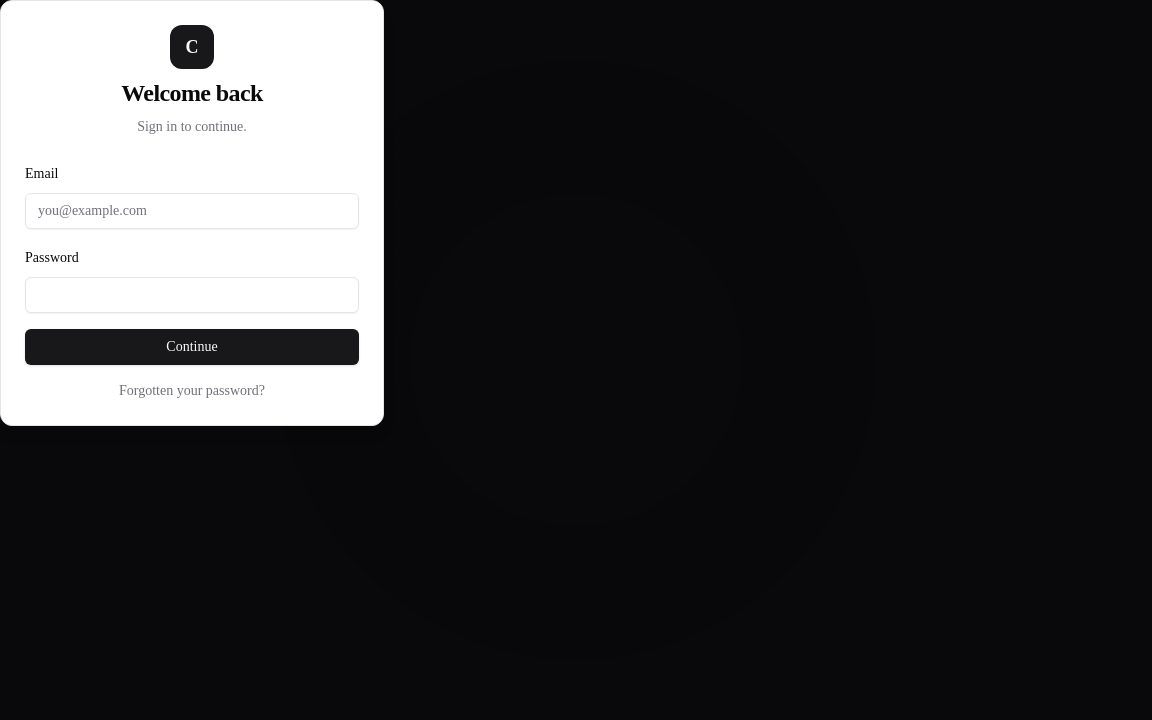
Test: sign-in — step 1, the credentials › ⚠️ a rejection never reveals whether the address exists (FR-011)
This screenshot has width=1152, height=720.
In the field labelled "Email": (192, 211) [25,193,359,229], type "agent@example.test"
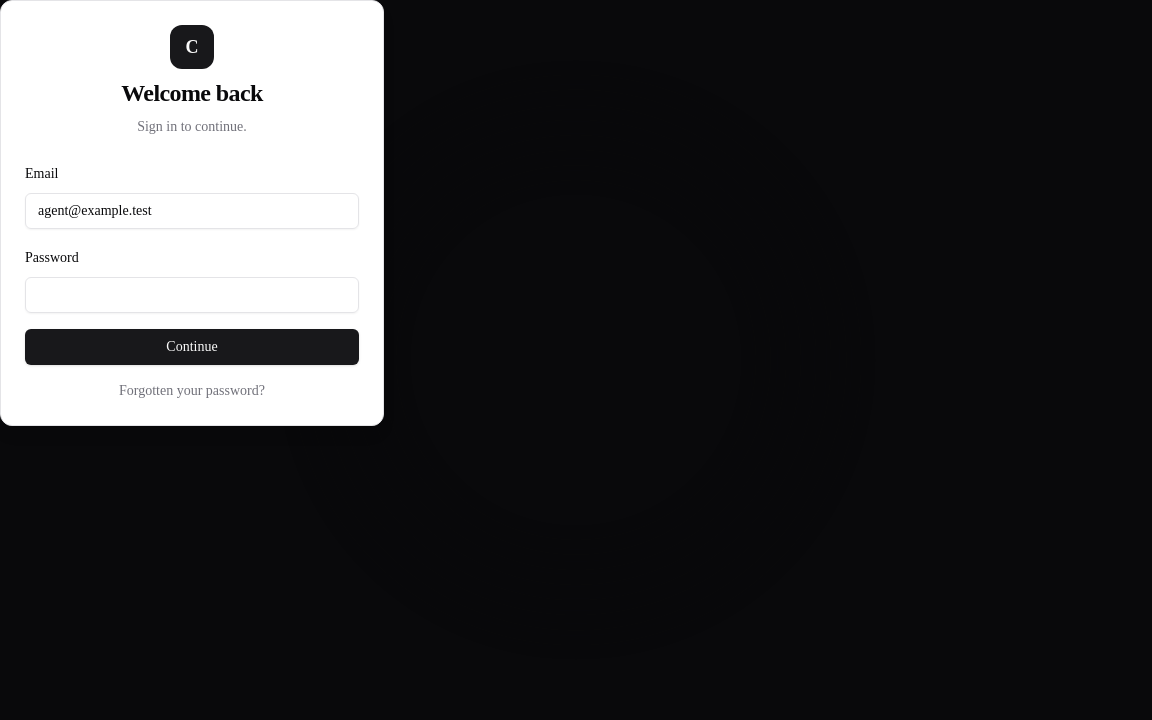
In the password field labelled "Password": (192, 295) [25,277,359,313], type "pw"
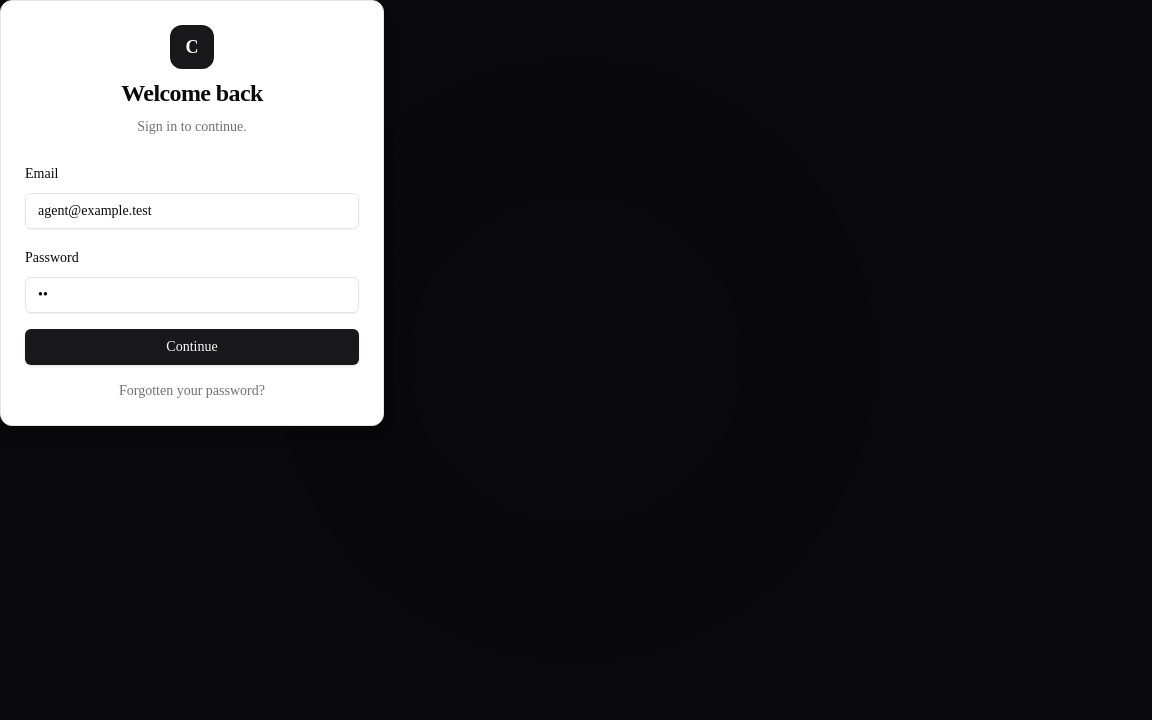
Click the button "Continue": (192, 347) [25,329,359,365]
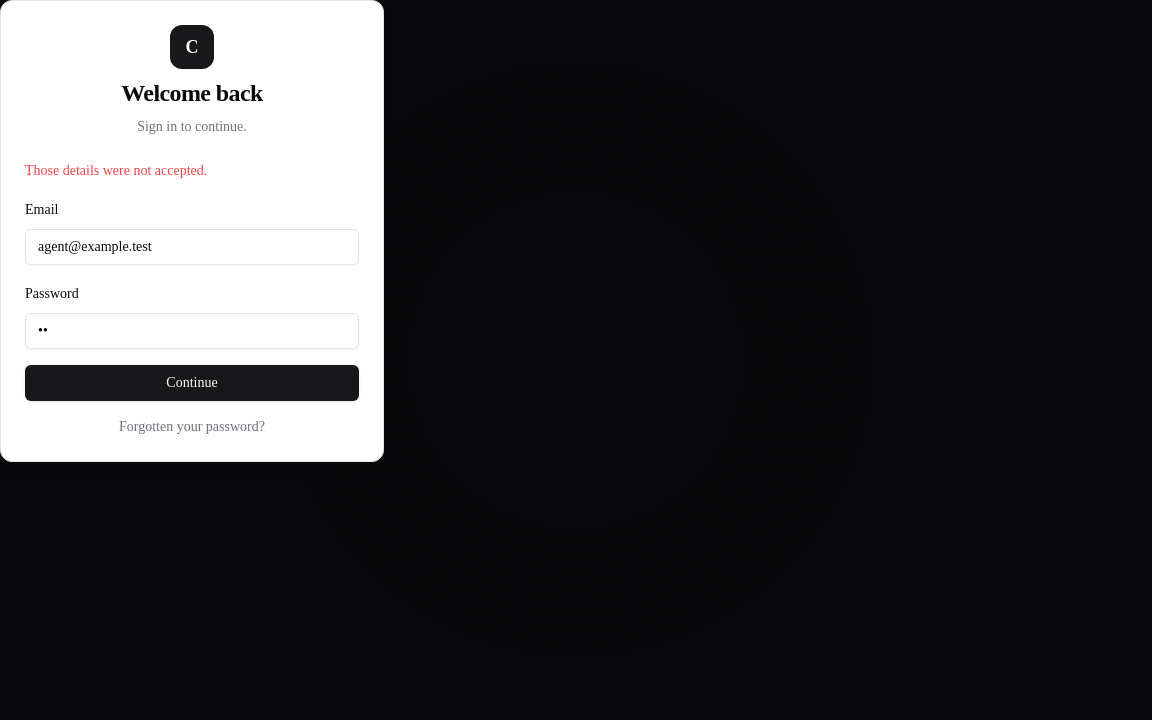
Check: the message shows "not accepted", box [25,163,207,178]
